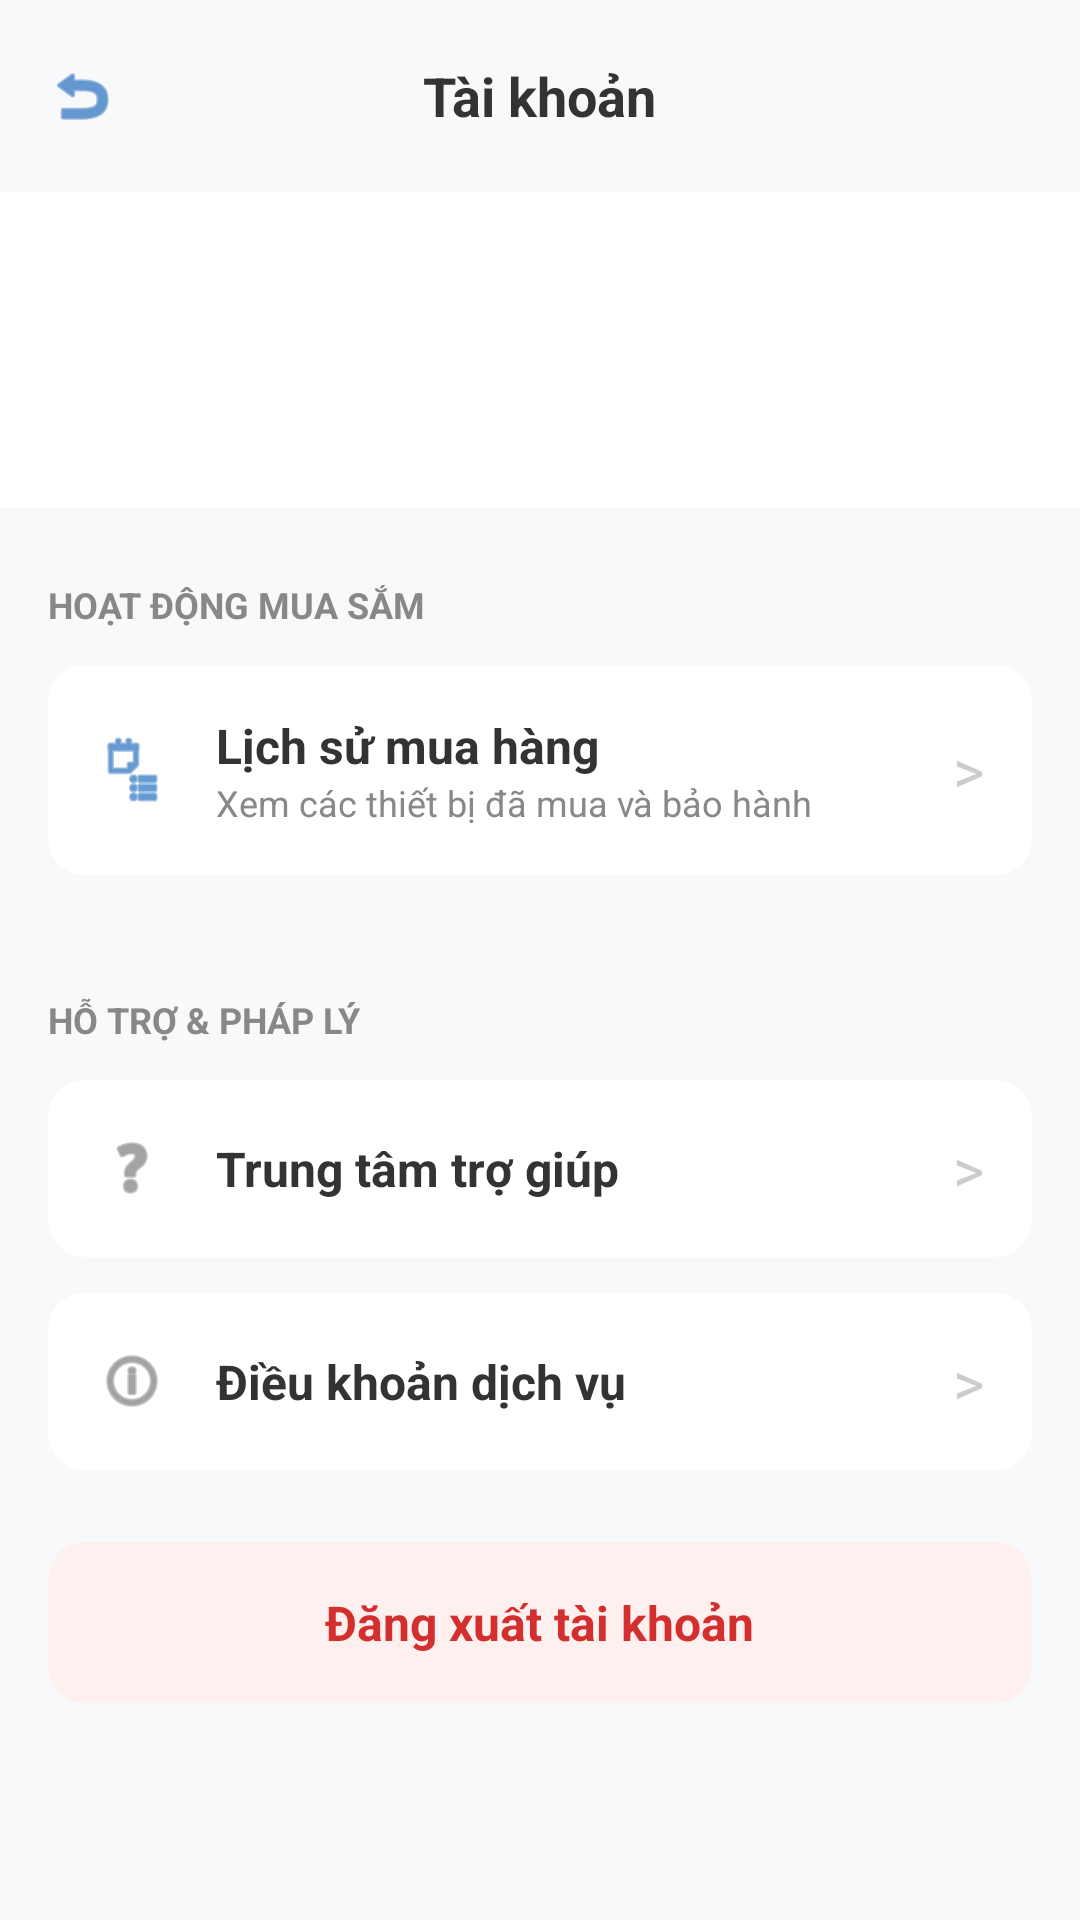

Icons on this 1080*1920 Android screen, each with its box as (x1, y1, x2, y2):
agenda: (107, 738, 158, 802)
help: (117, 1142, 148, 1194)
info details: (106, 1355, 158, 1407)
revert: (57, 73, 109, 120)
